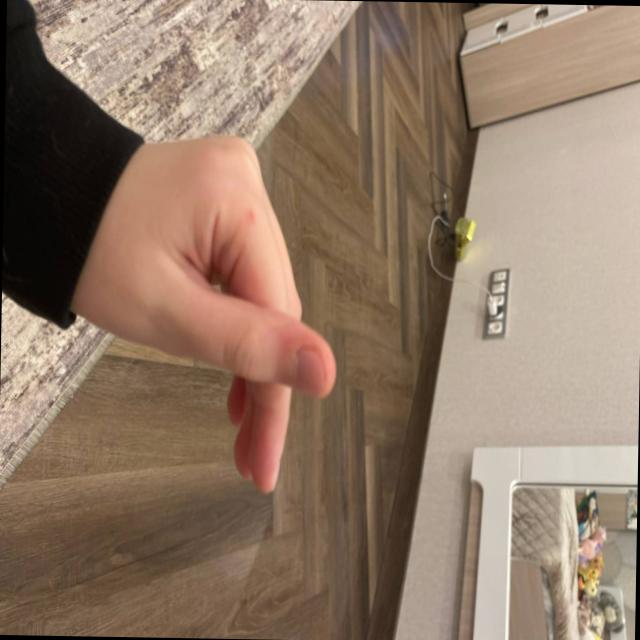f: (104, 138, 328, 516)
